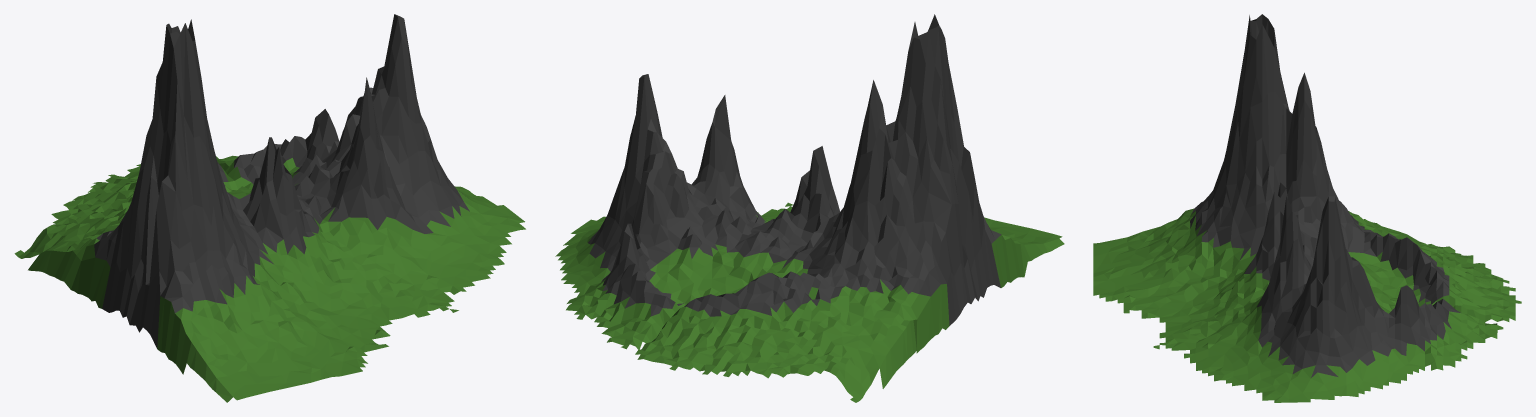
Rendered from Mountain8_very_hig.fbx.
The picture shows the model from 3 angles, left to right: view 1: azimuth 30°, elevation 25°; view 2: azimuth 150°, elevation 25°; view 3: azimuth 270°, elevation 25°; orthographic projection. The views are drawn at different scales.
Visible parts, largest first — view 1: Plane.024; view 2: Plane.024; view 3: Plane.024.
Boxes of the visible parts, bbox=[...] form: Plane.024: bbox=[14, 14, 525, 402]; Plane.024: bbox=[555, 14, 1064, 402]; Plane.024: bbox=[1093, 14, 1521, 402].
Size of the model in its own units: 1170 by 867 by 1291.
